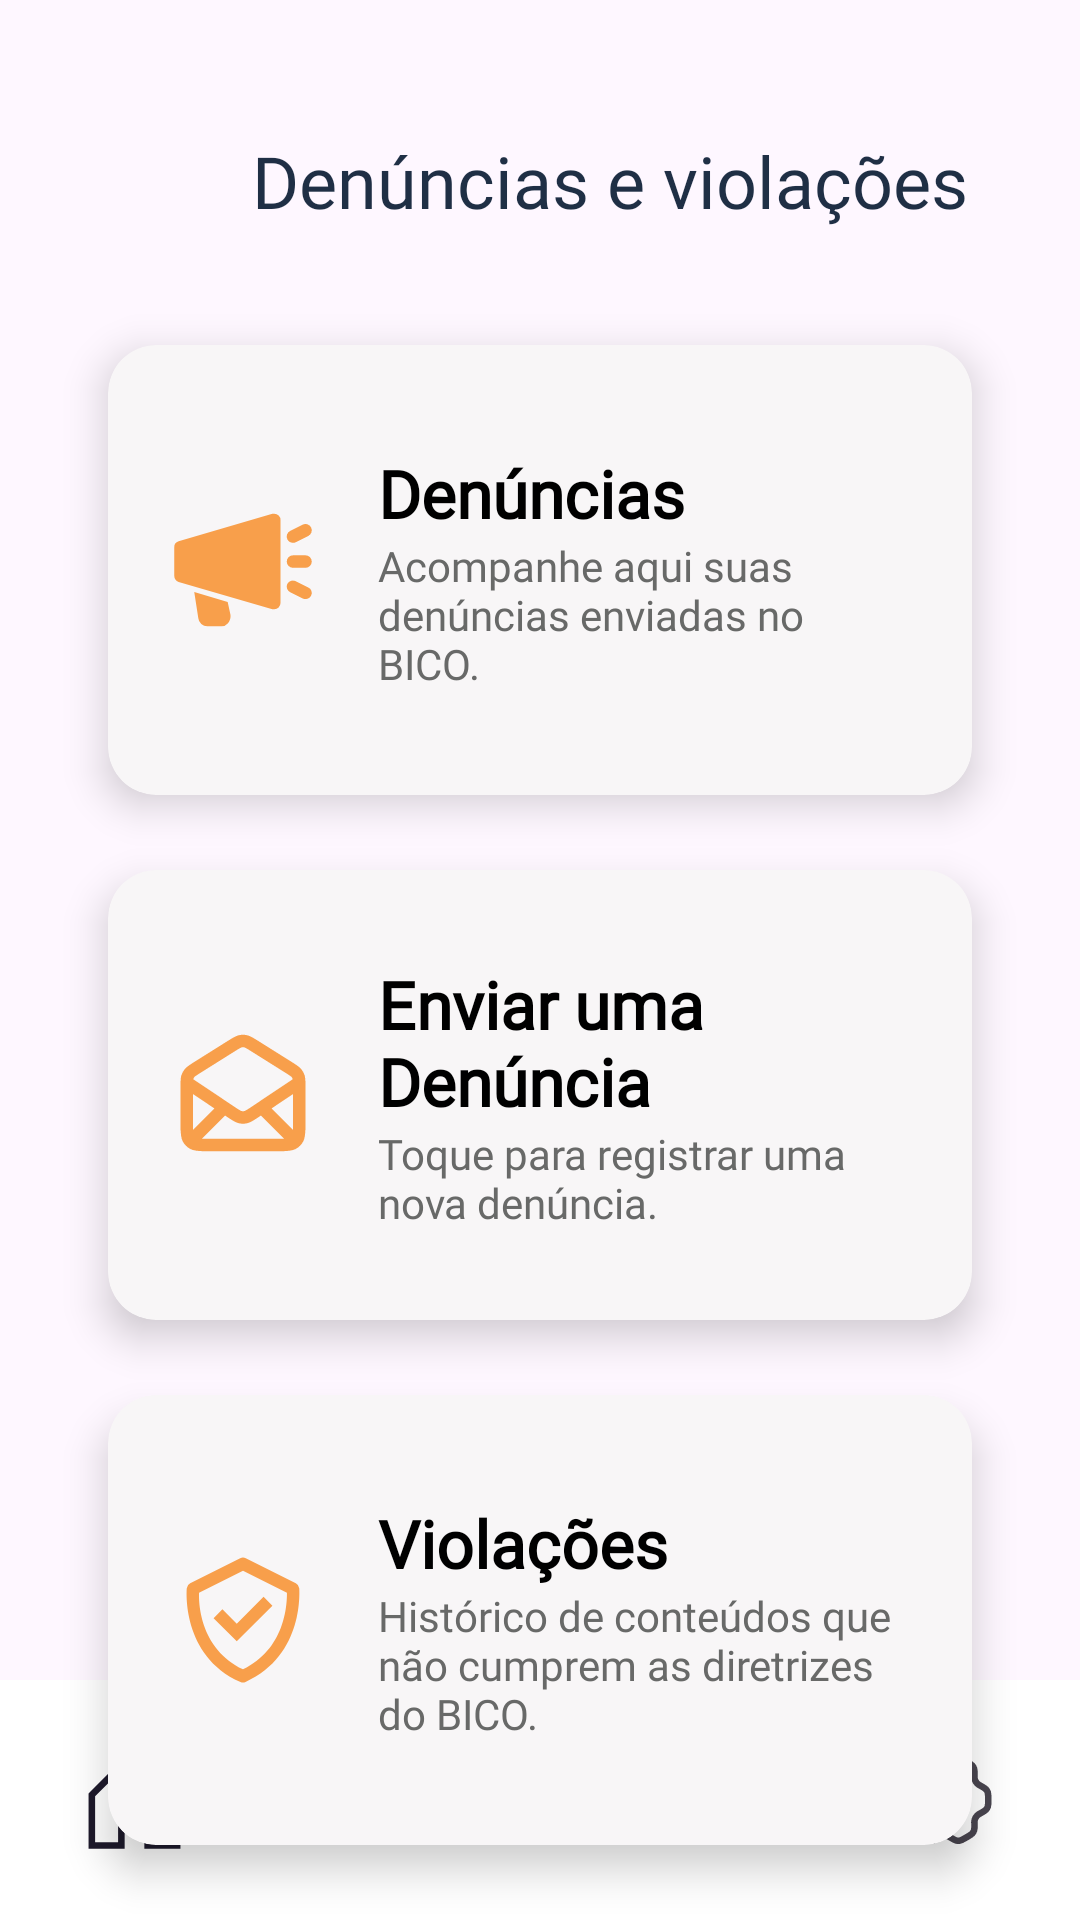

Icons on this 1080w x 1920h Android screen, each with the point to tap as (x=x, y=y):
mail: (x=243, y=1093)
megaphone: (x=243, y=570)
shield: (x=243, y=1620)
